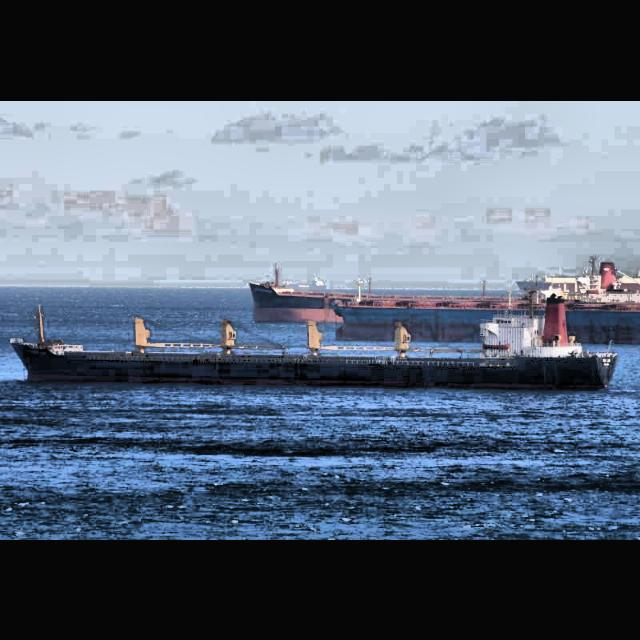bulk_carrier: (9, 290, 618, 392), (332, 277, 640, 341)
